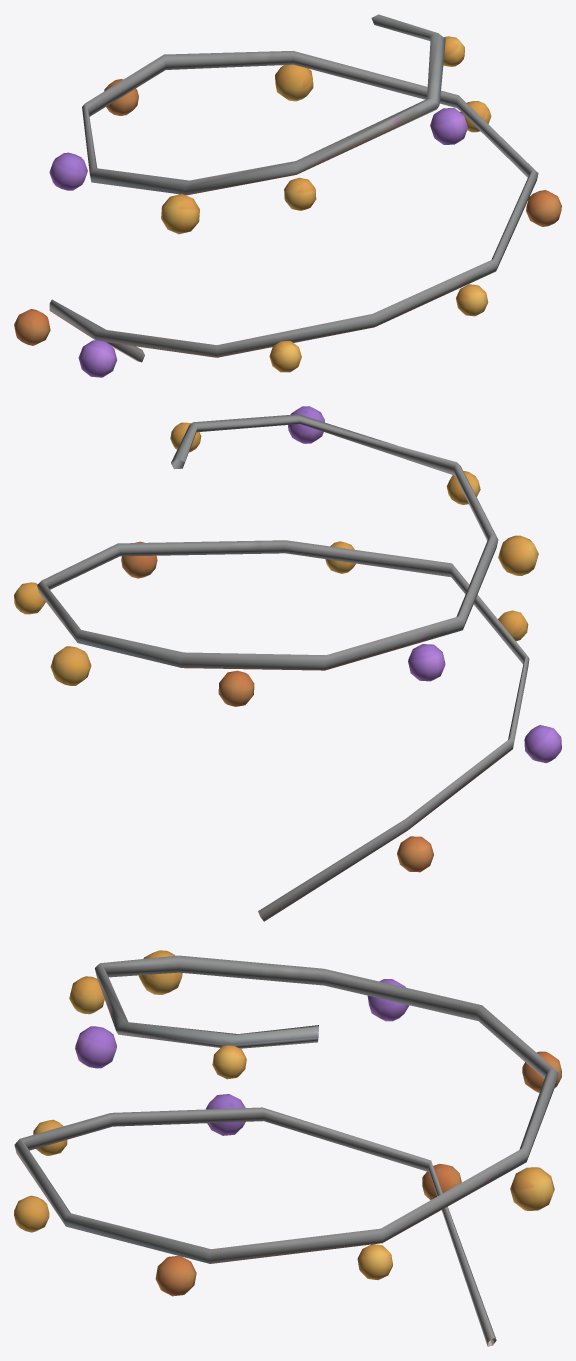
File: pref_sm_beach_WSJ_deng02_a_lv3.fbx
3 views of the same model, one above another, from view 1: azimuth 30°, elevation 25°; view 2: azimuth 150°, elevation 25°; view 3: azimuth 270°, elevation 25° (orthographic). The views are drawn at different scales.
Visible parts, largest first — view 1: pref_sm_beach_WSJ_deng02_a_lv3; view 2: pref_sm_beach_WSJ_deng02_a_lv3; view 3: pref_sm_beach_WSJ_deng02_a_lv3.
Boxes of the visible parts, bbox=[...] form: pref_sm_beach_WSJ_deng02_a_lv3: bbox=[14, 14, 561, 377]; pref_sm_beach_WSJ_deng02_a_lv3: bbox=[14, 406, 561, 921]; pref_sm_beach_WSJ_deng02_a_lv3: bbox=[14, 950, 561, 1346].
Bounding box in the file's own units: 2.68 × 1.99 × 2.4.
